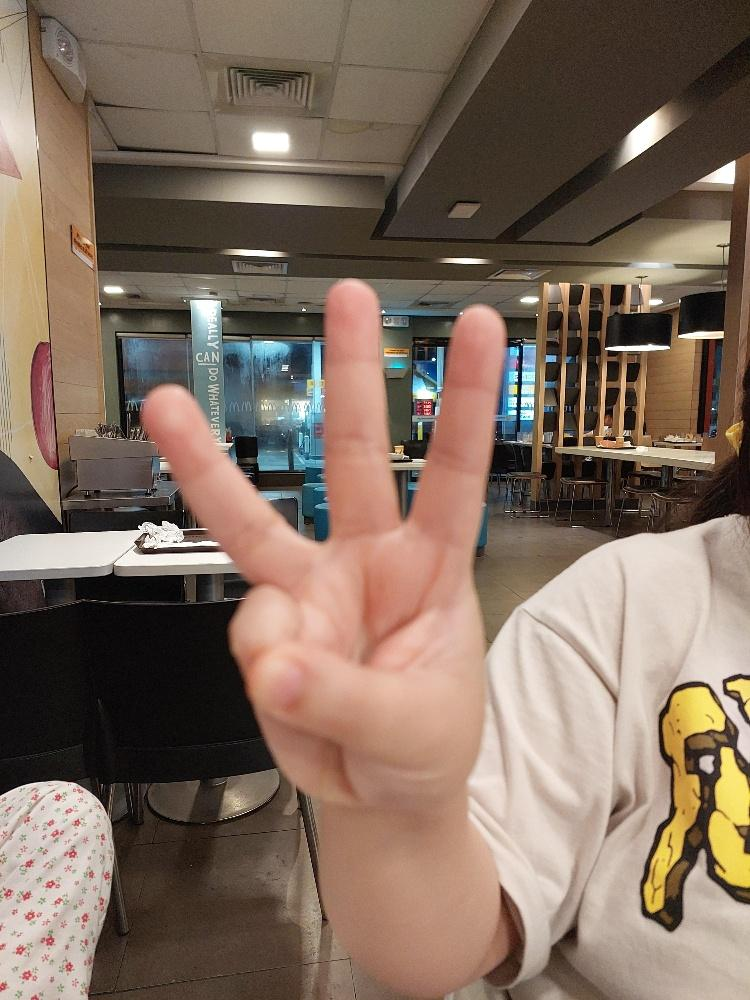w: (136, 275, 513, 809)
